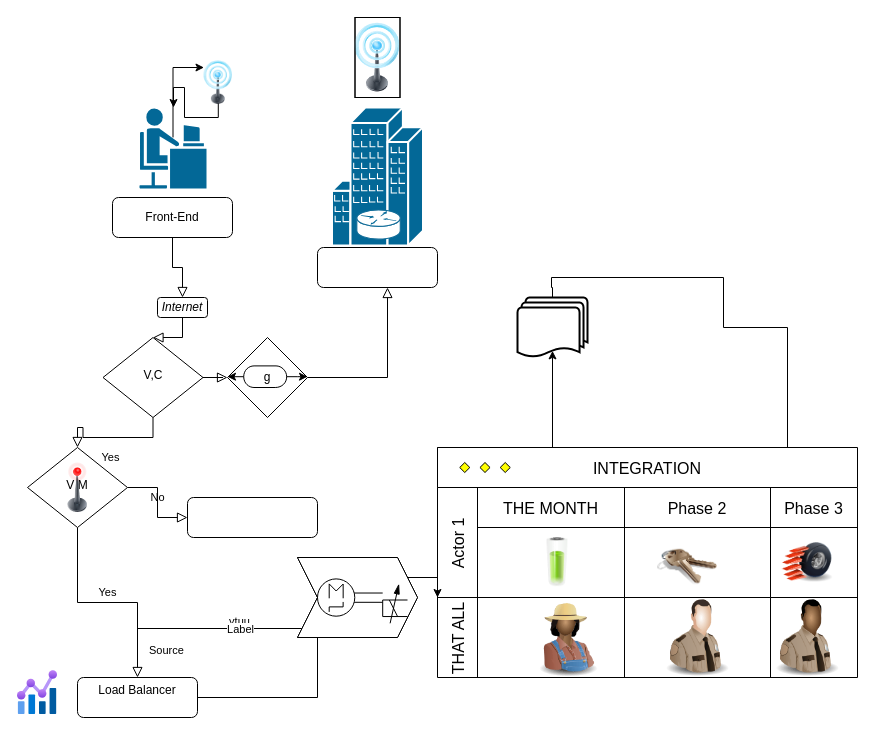
This 875x735 diagram has some shape labels left out. The shapes that lost their labels are listed below. From the top down, each one's centre as x and y in pixels, then its label:
(x=377, y=267): Cloud Services
(x=552, y=327): Span
(x=252, y=517): Queuing Services
